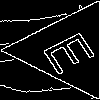E: (41, 25, 100, 77)
